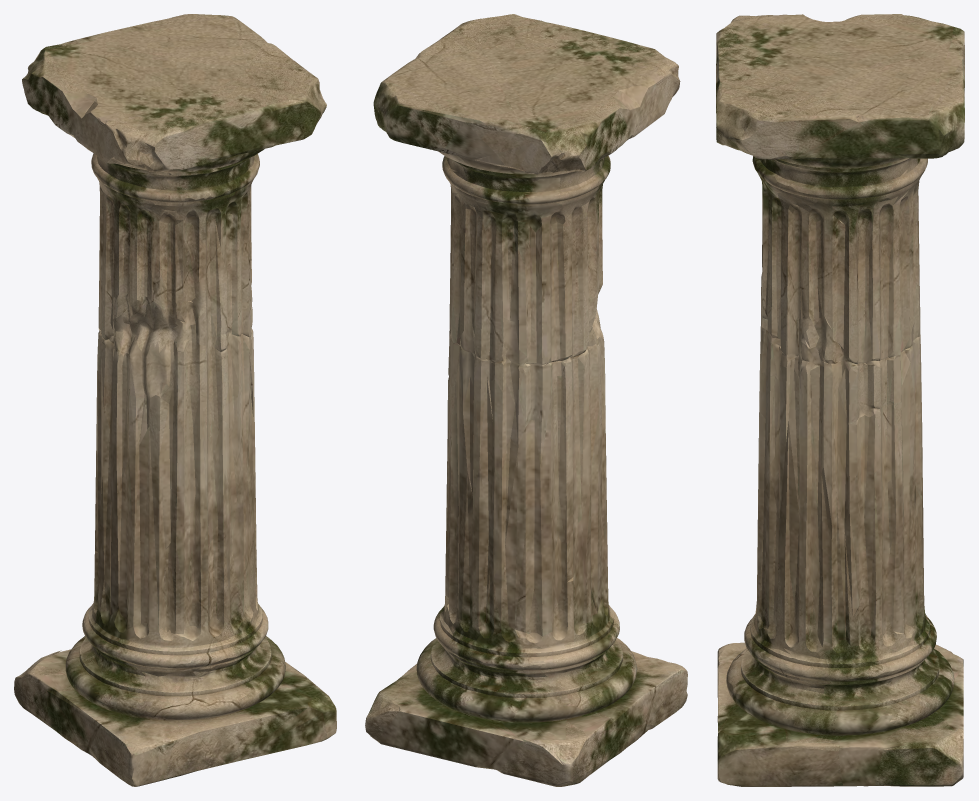
The model's file is sutun_ayakta.glb.
3 views of the same model, side by side, from view 1: azimuth 30°, elevation 25°; view 2: azimuth 150°, elevation 25°; view 3: azimuth 270°, elevation 25° (orthographic). The views are drawn at different scales.
Parts seen in each view (by area): view 1: Mesh_0; view 2: Mesh_0; view 3: Mesh_0.
Part boxes in pixels (box(x1,y1,x2,y2)): Mesh_0: box(14, 14, 336, 786); Mesh_0: box(365, 14, 687, 786); Mesh_0: box(716, 14, 964, 786).
Size of the model in its own units: 0.6362 by 1.9 by 0.6394.
Materials: 1 (1 with a texture image).
